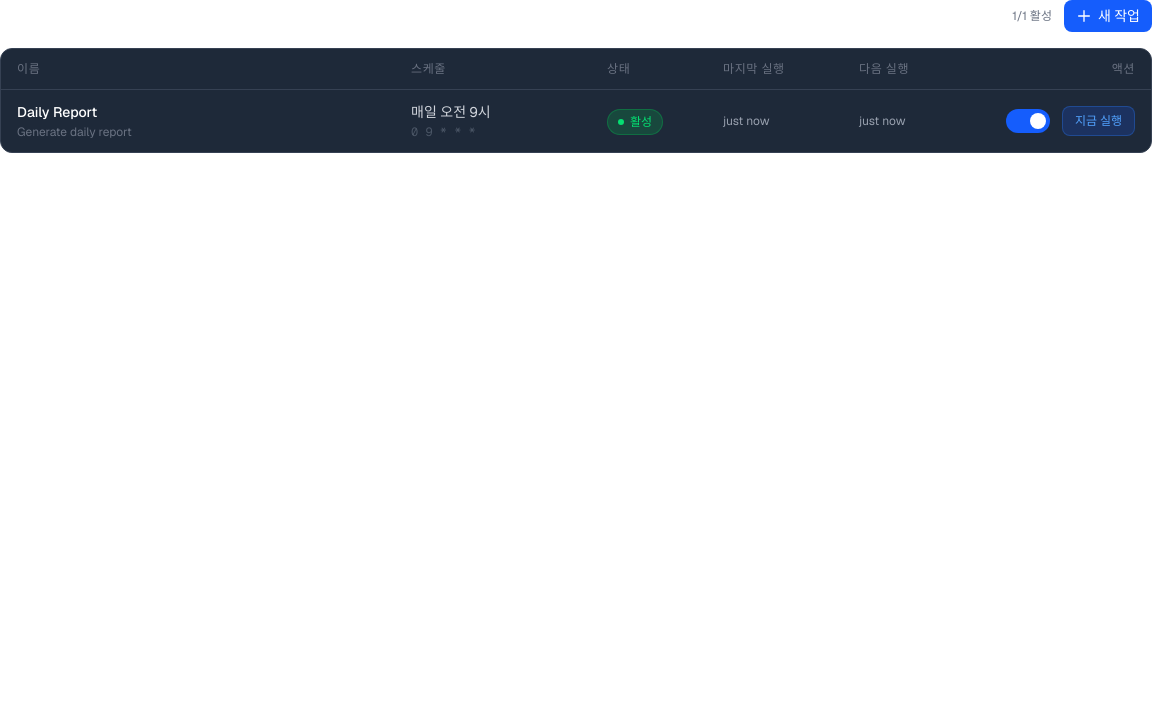
Test: CronJobsPanel › CreateJobModal open/close › opens CreateJobModal when 새 작업 button is clicked
Click the button "새 작업".
click(1108, 16)  # box [1064,0,1151,32]
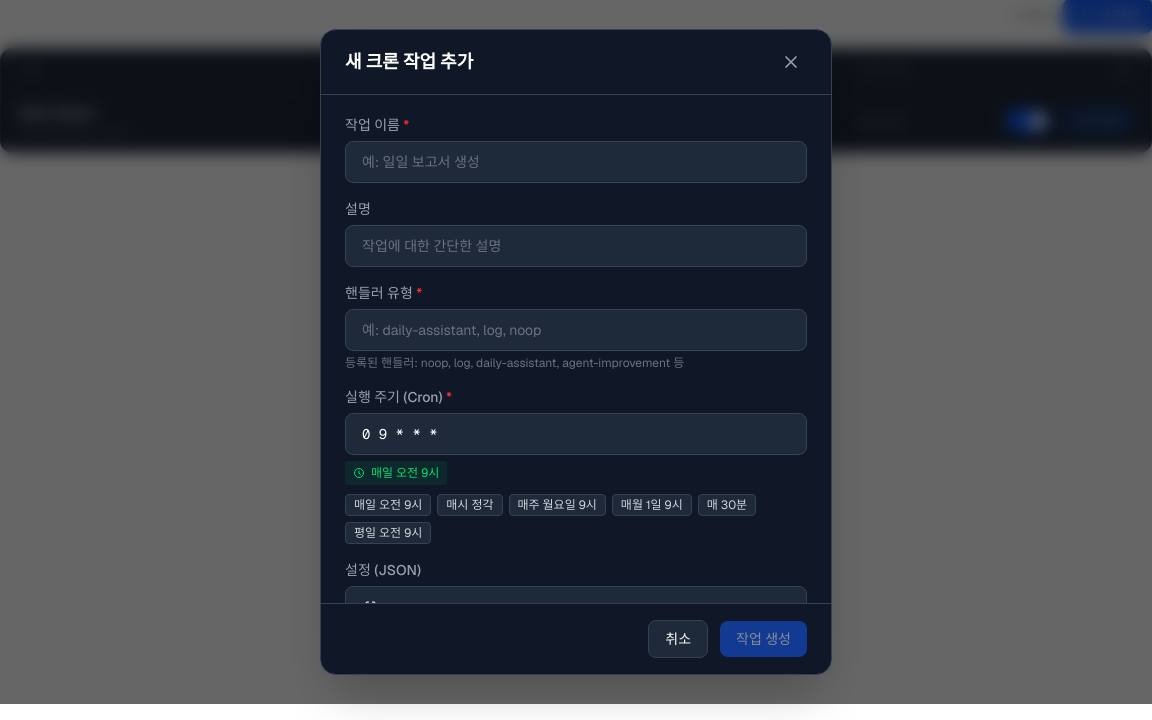
Now the heading "새 크론 작업 추가" is shown, box [345,48,473,76]
